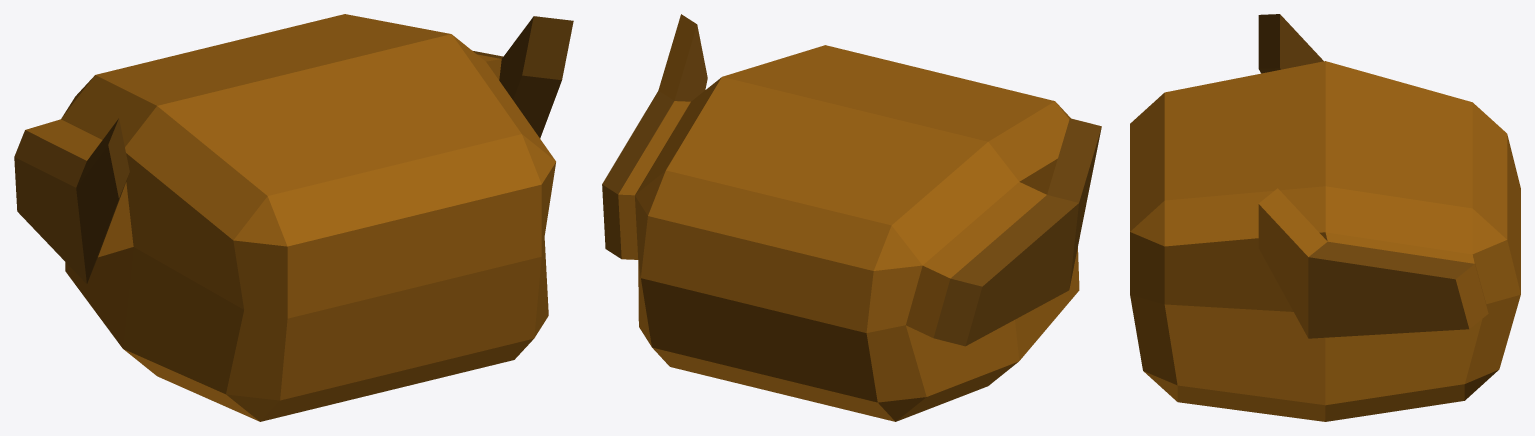
Rendered from chicken.fbx.
3 renders of one model, left to right at view 1: azimuth 30°, elevation 25°; view 2: azimuth 150°, elevation 25°; view 3: azimuth 270°, elevation 25°, orthographic. The views are drawn at different scales.
Parts seen in each view (by area): view 1: Cube.001; view 2: Cube.001; view 3: Cube.001.
Part boxes in pixels (box(x1,y1,x2,y2)): Cube.001: box(14, 14, 573, 421); Cube.001: box(602, 14, 1101, 421); Cube.001: box(1130, 14, 1520, 421).
Bounding box in the file's own units: 84.28 × 50.67 × 69.81.
